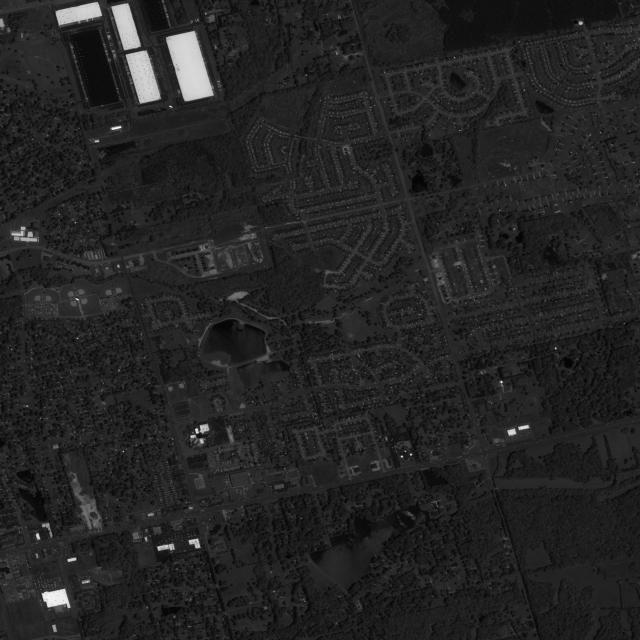storage-tank: (578, 21, 583, 26)
